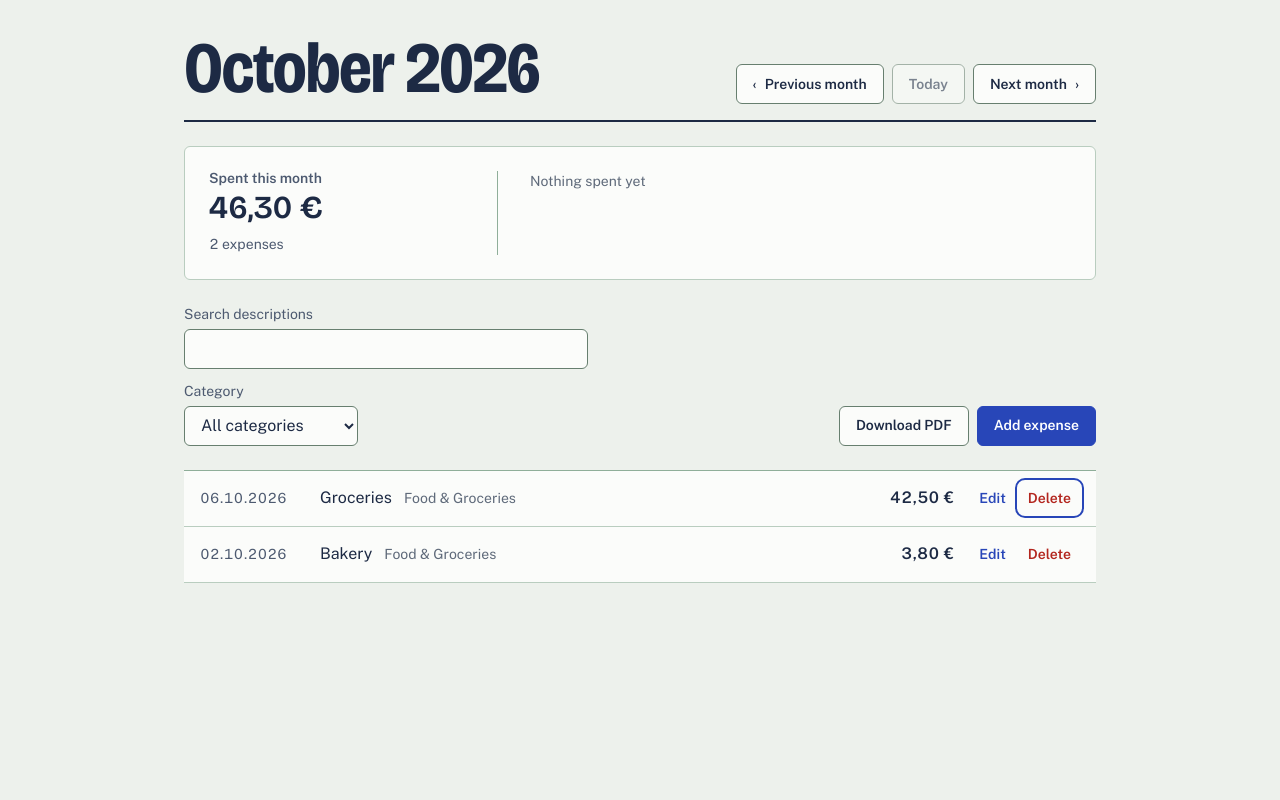
returns focus to the row's Delete button when the delete is cancelled
Expected: the text "Groceries" is shown, [320,486,392,510]
Click the button with aria-label "Delete Groceries".
click(1049, 498)  # box [1019,482,1080,514]
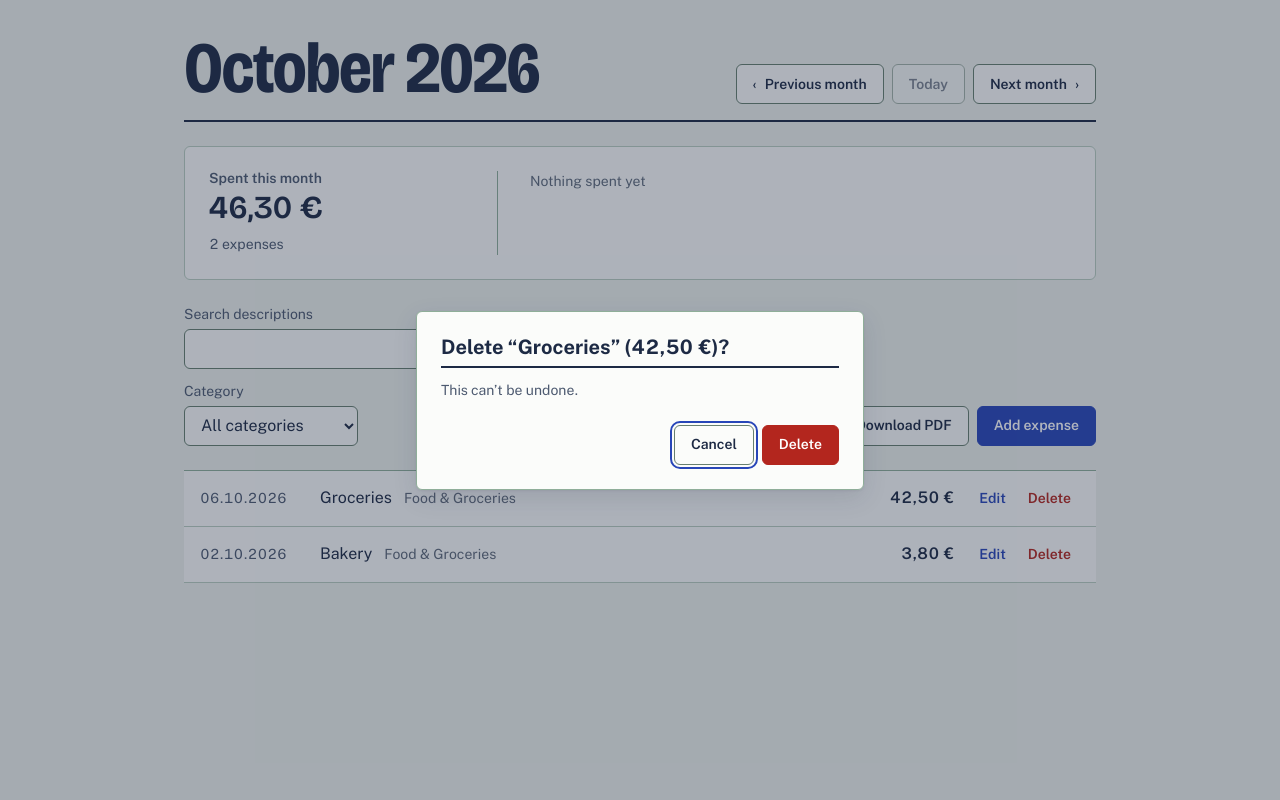
Click the button "Cancel".
click(714, 444)  # box [674,424,754,464]
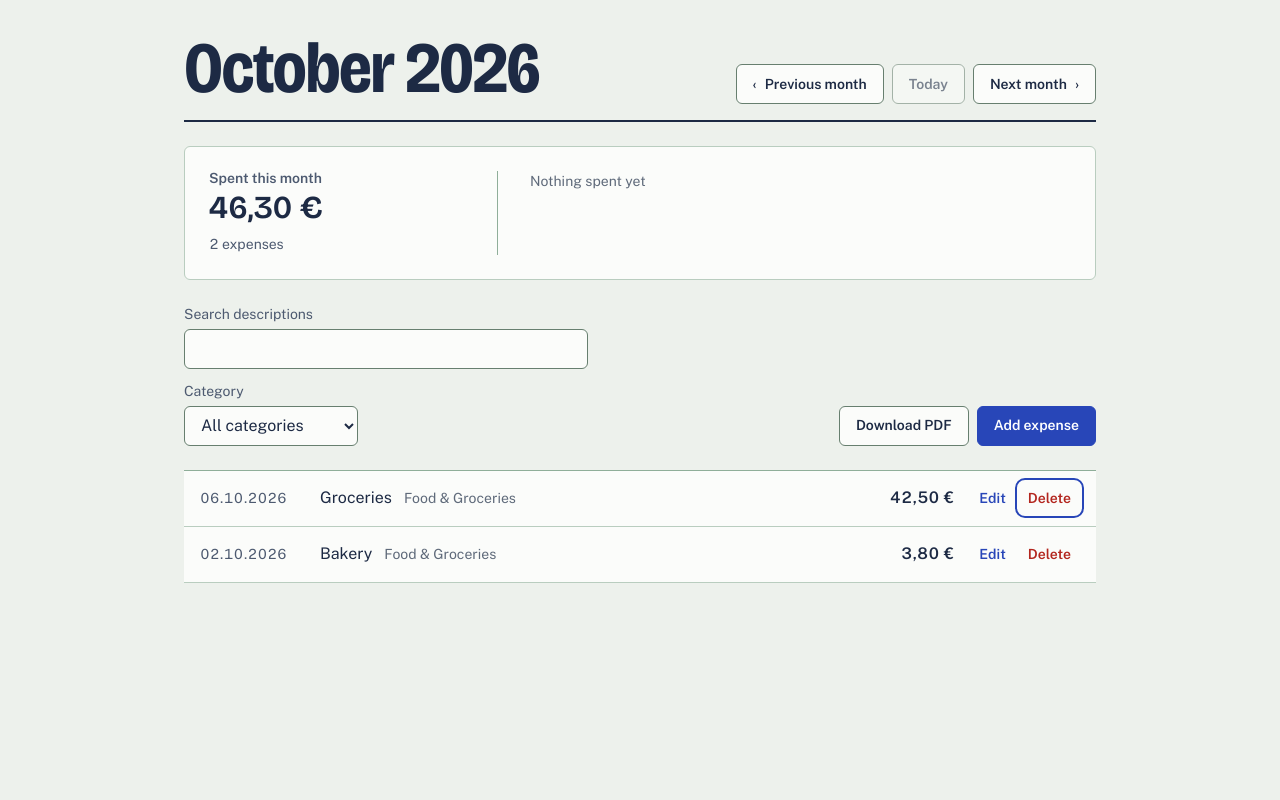
Expected: the dialog is gone
